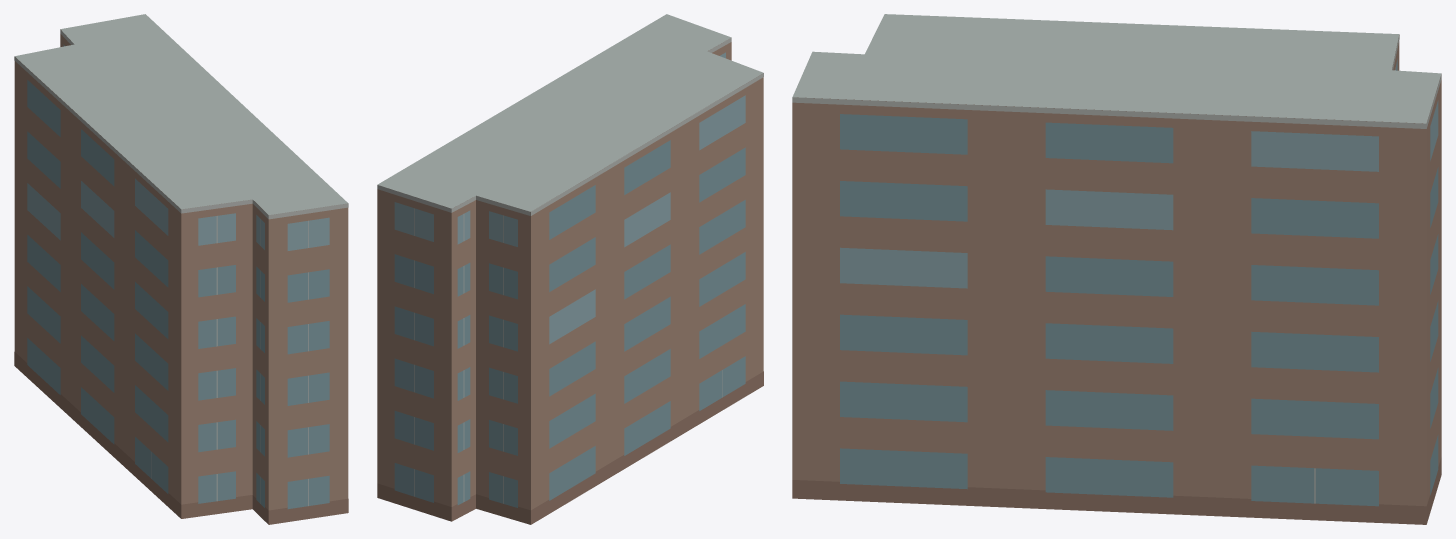
File: survey-upis-32566180.glb
The picture shows the model from 3 angles, left to right: view 1: azimuth 30°, elevation 25°; view 2: azimuth 150°, elevation 25°; view 3: azimuth 270°, elevation 25°; orthographic projection. The views are drawn at different scales.
Parts seen in each view (by area): view 1: survey-upis-32566180.tmp; view 2: survey-upis-32566180.tmp; view 3: survey-upis-32566180.tmp.
Boxes of the visible parts, x1,y1,x2,y2 form: survey-upis-32566180.tmp: [14, 14, 348, 524]; survey-upis-32566180.tmp: [377, 14, 763, 524]; survey-upis-32566180.tmp: [792, 14, 1441, 524].
Size of the model in its own units: 10.49 by 17.9 by 26.25.
